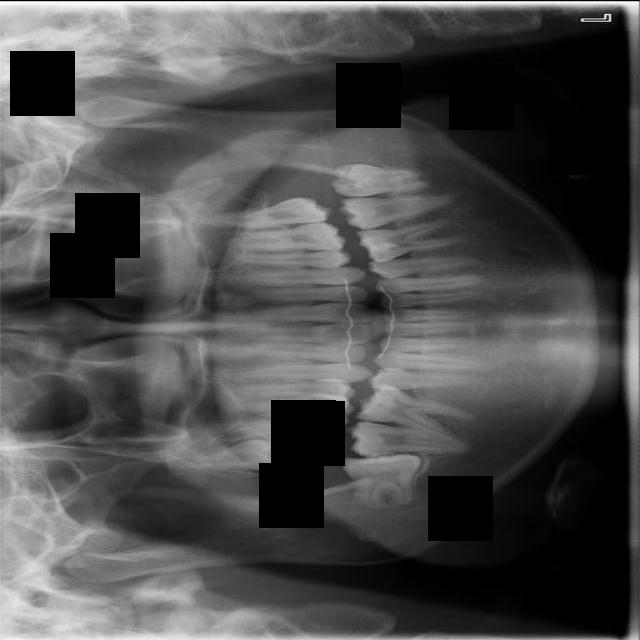3M ESPE Implant: (181, 436, 288, 471)
52: (353, 217, 403, 270)
73: (594, 48, 606, 57)
BioHorizons Implant: (195, 192, 334, 233)
Biomet 3i Implant: (330, 162, 429, 196)
Blue Sky Bio Implant: (338, 192, 462, 231)
Caries: (236, 417, 339, 456)
Implant: (348, 419, 469, 468)
Keystone Dental Implant: (342, 451, 423, 510)
